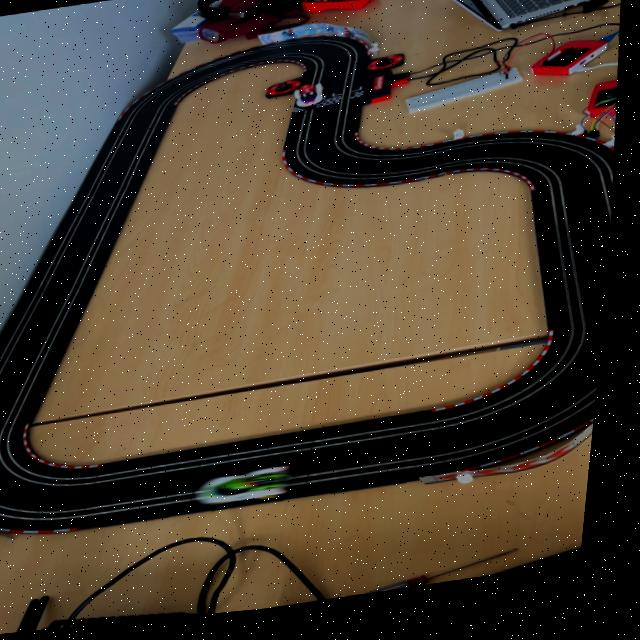mario: (290, 87, 333, 119)
yoshi: (199, 469, 310, 517)
